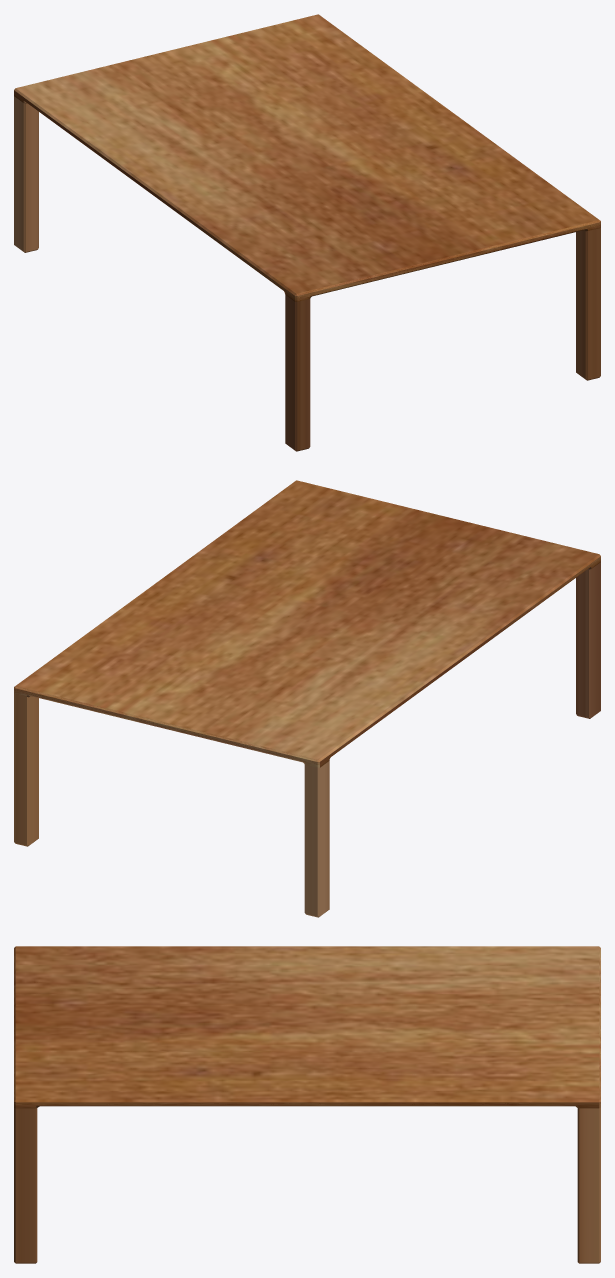
Rendered from mesaComedor.obj.
The picture shows the model from 3 angles, top to bottom: view 1: azimuth 30°, elevation 25°; view 2: azimuth 150°, elevation 25°; view 3: azimuth 270°, elevation 25°; orthographic projection. The views are drawn at different scales.
Visible parts, largest first — view 1: pCube6; view 2: pCube6; view 3: pCube6.
Boxes of the visible parts, x1=… form: pCube6: x1=14, y1=14, x2=600, y2=451; pCube6: x1=14, y1=480, x2=600, y2=917; pCube6: x1=14, y1=946, x2=600, y2=1263.
Size of the model in its own units: 5 by 2.46 by 8.
Materials: 1 (1 with a texture image).
